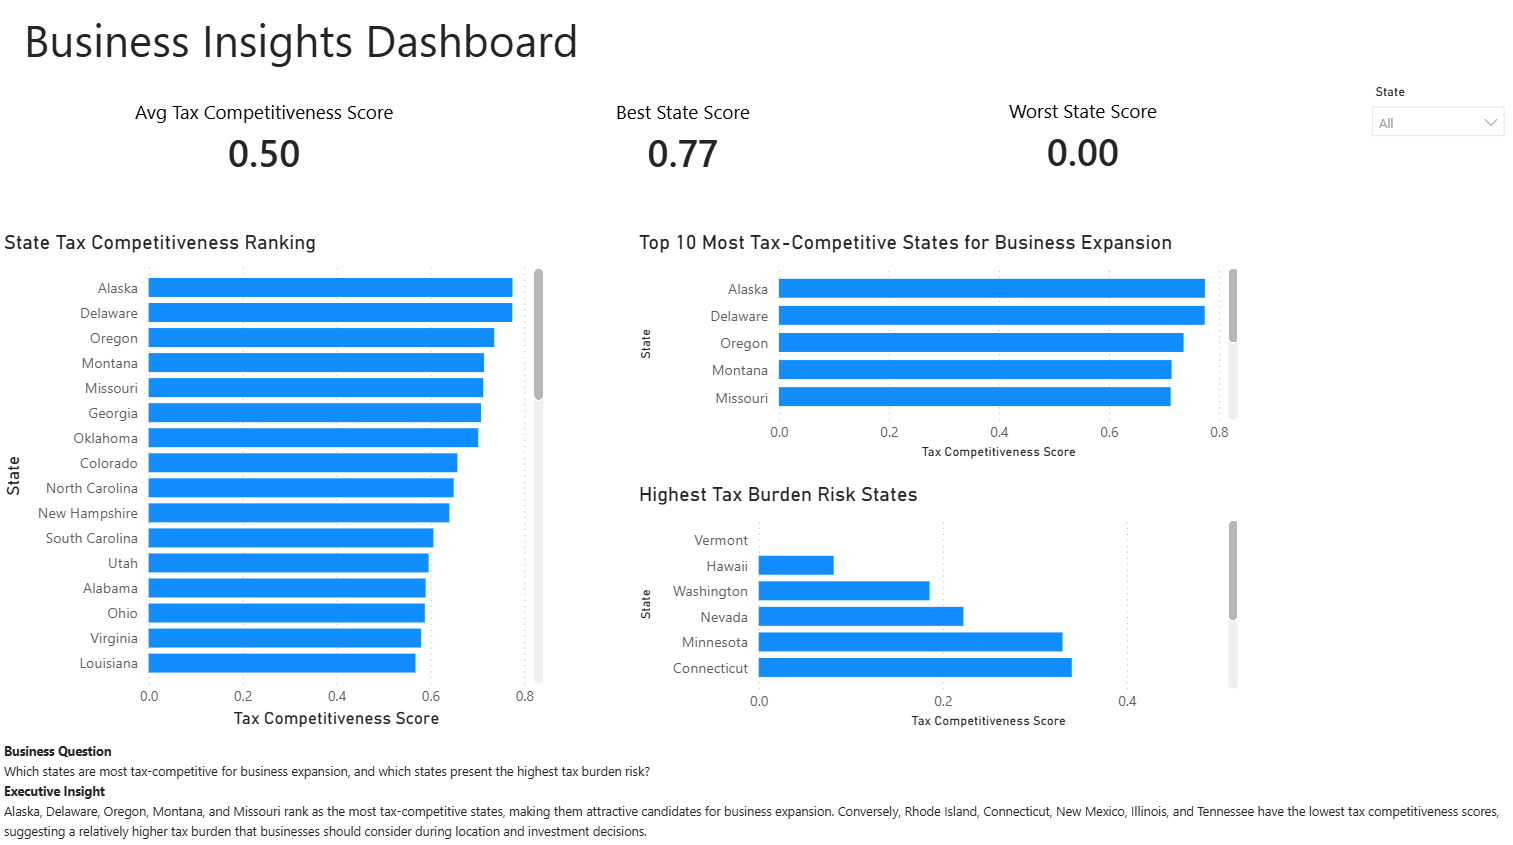

What the dashboard file says about the page in this screenshot:
{"tool":"powerbi","page":{"name":"Page 5 – Business Insights","canvas":[1280,720],"ordinal":4},"visuals":[{"type":"clusteredBarChart","title":"State Tax Competitiveness Ranking","fields":{"Category":["fact_business_tax.State"],"Y":["fact_business_tax.Tax Competitiveness Score"]},"box":[0,198.8,464.8,424.5],"z":0},{"type":"clusteredBarChart","title":"Top 10 Most Tax-Competitive States for Business Expansion","fields":{"Category":["fact_business_tax.State"],"Y":["fact_business_tax.Tax Competitiveness Score"]},"box":[535.5,198.8,514.9,197.9],"z":1000},{"type":"clusteredBarChart","title":"Highest Tax Burden Risk States","fields":{"Category":["fact_business_tax.State"],"Y":["fact_business_tax.Tax Competitiveness Score"]},"box":[535.5,411,514.9,212.2],"z":2000},{"type":"cardVisual","fields":{"Data":["fact_business_tax.Avg Tax Competitiveness Score"]},"box":[83.3,63.6,283,116.4],"z":3000},{"type":"cardVisual","fields":{"Data":["fact_business_tax.Best State Score"]},"box":[429.9,63.6,293.7,113.7],"z":4000},{"type":"cardVisual","fields":{"Data":["fact_business_tax.Worst State Score"]},"box":[767.5,63.6,295.5,113.7],"z":5000},{"type":"textbox","box":[0,623.3,1279.7,96.7],"z":6000},{"type":"textbox","box":[7.2,8.1,497.9,62.7],"z":7000},{"type":"slicer","fields":{"Values":["fact_business_tax.State"]},"box":[1148.1,70.7,131.6,120],"z":8000}]}

Visuals, with their boxes in screenshot pixels (x1, y1, x2, y2), scaled from the page's 1280x720 canvas onto the 1513x845 screenshot:
"State Tax Competitiveness Ranking" clusteredBarChart: select_region(0, 233, 549, 732)
"Top 10 Most Tax-Competitive States for Business Expansion" clusteredBarChart: select_region(633, 233, 1242, 466)
"Highest Tax Burden Risk States" clusteredBarChart: select_region(633, 482, 1242, 731)
cardVisual - fact_business_tax.Avg Tax Competitiveness Score: select_region(98, 75, 433, 211)
cardVisual - fact_business_tax.Best State Score: select_region(508, 75, 855, 208)
cardVisual - fact_business_tax.Worst State Score: select_region(907, 75, 1256, 208)
textbox: select_region(0, 732, 1512, 844)
textbox: select_region(9, 10, 597, 83)
slicer - fact_business_tax.State: select_region(1357, 83, 1512, 224)
